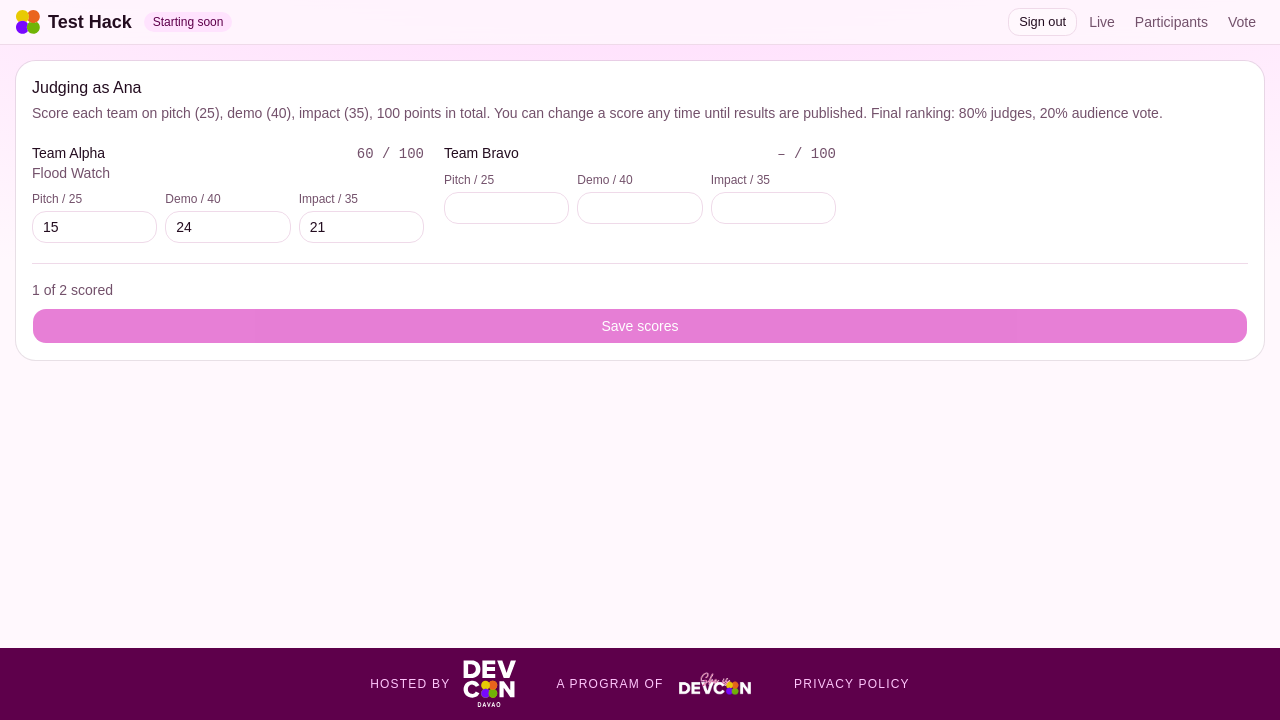
Test: judge page saves pitch, demo, and impact points for each team, with voting not open
Expected: the number field named "Team Alpha demo out of 40" holds "24", x1=165 y1=211 x2=291 y2=243
Expected: the text "60 / 100" is shown, x1=357 y1=144 x2=424 y2=164
Note: A team needs all three criteria, each within its own maximum.
Type "26" into the number field named "Team Bravo pitch out of 25" at (507, 208), box x1=444 y1=192 x2=569 y2=224
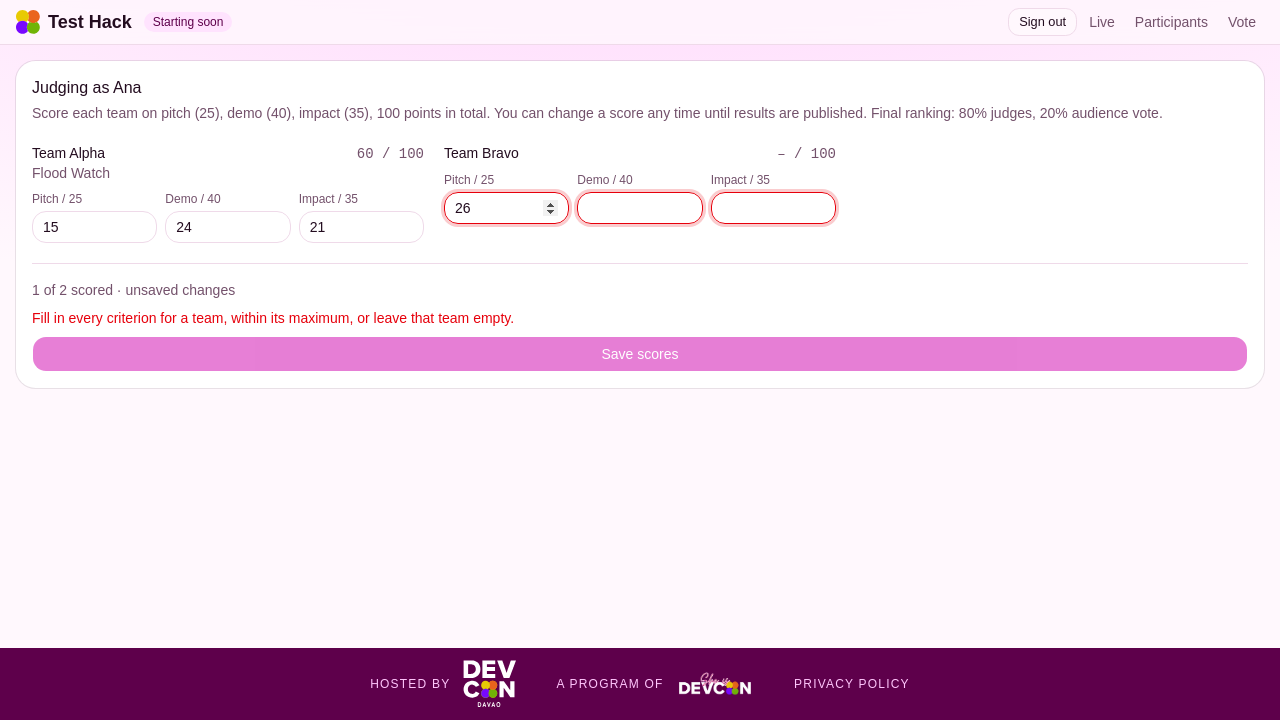
Type "38.5" into the number field named "Team Bravo demo out of 40" at (640, 208), box x1=577 y1=192 x2=703 y2=224
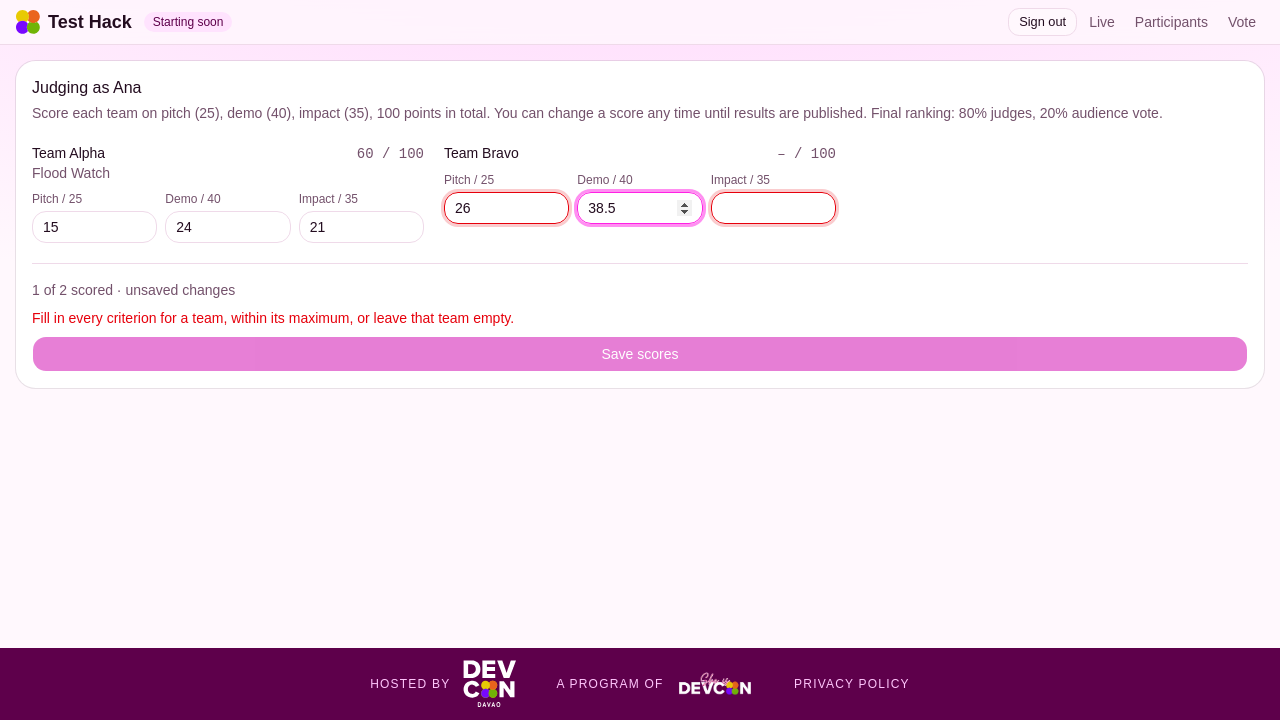
Expected: the button "Save scores" is disabled, x1=32 y1=336 x2=1248 y2=372
Type "30" into the number field named "Team Bravo impact out of 35" at (773, 208), box x1=711 y1=192 x2=836 y2=224
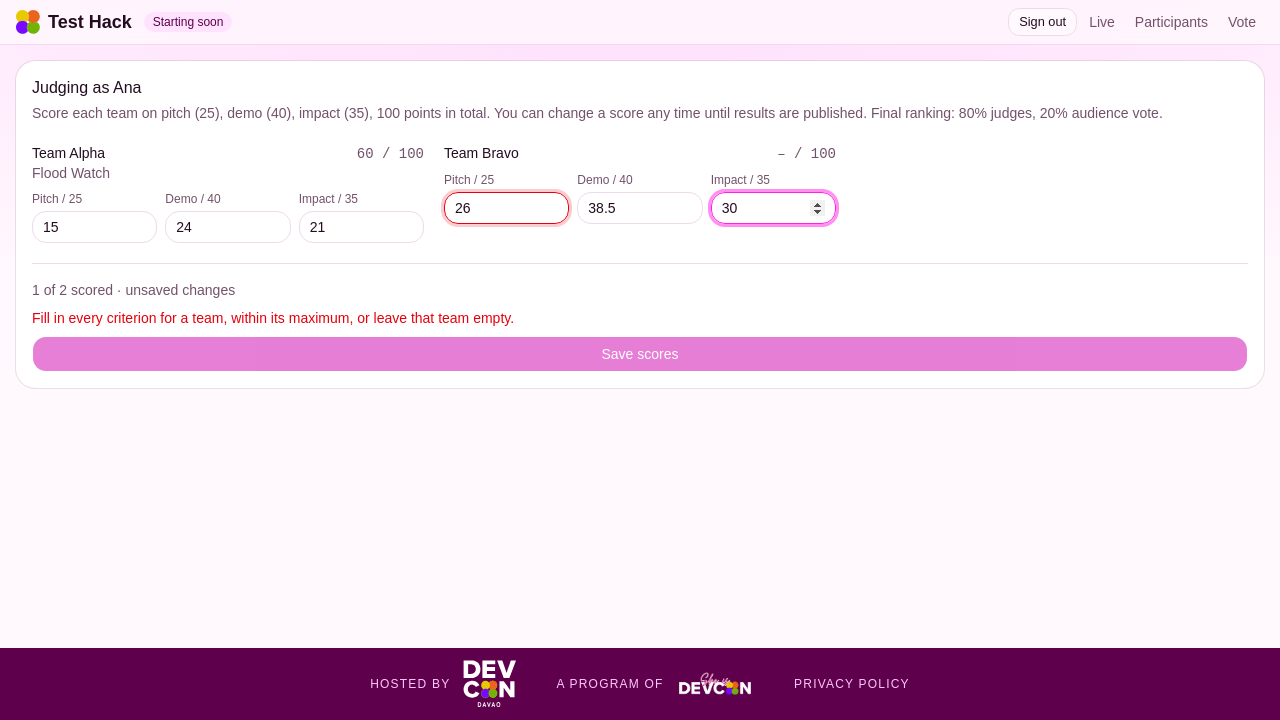
Expected: the button "Save scores" is disabled, x1=32 y1=336 x2=1248 y2=372
Replace the text in the number field named "Team Bravo pitch out of 25" with "20" at (507, 208), box x1=444 y1=192 x2=569 y2=224
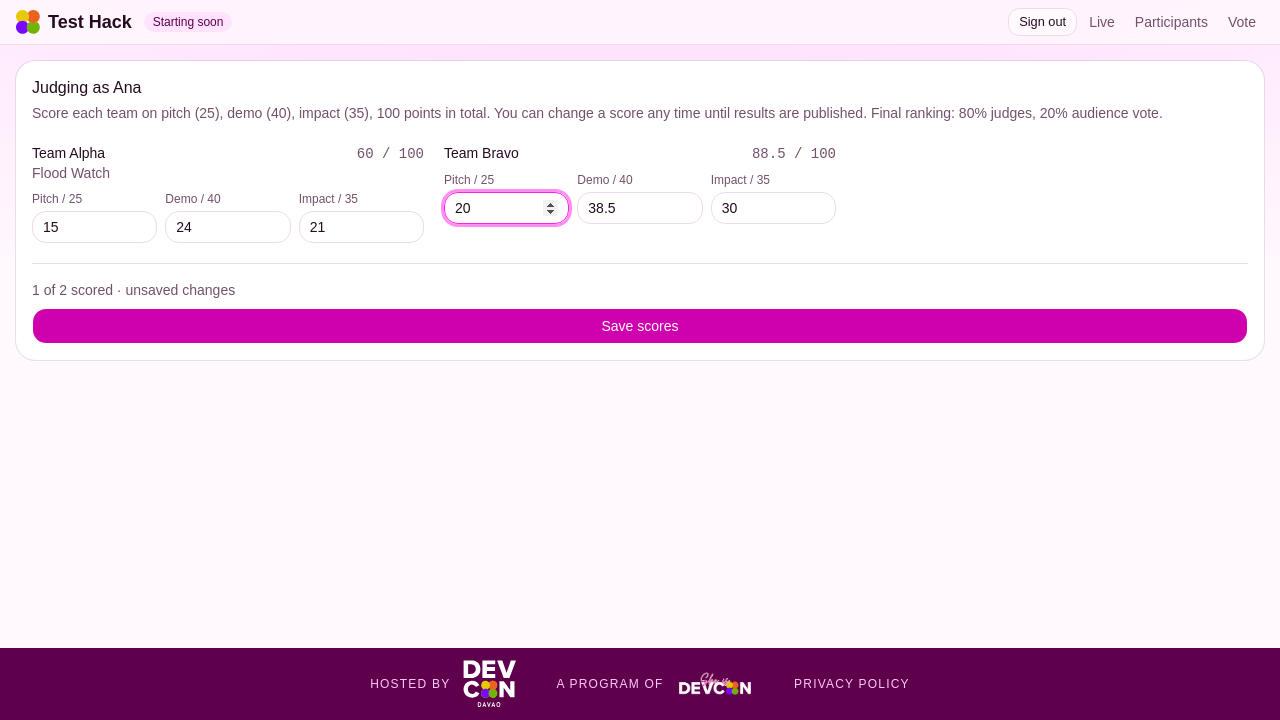
Expected: the text "88.5 / 100" is shown, x1=752 y1=144 x2=836 y2=164
Click the button "Save scores" at (640, 326), box x1=32 y1=308 x2=1248 y2=344
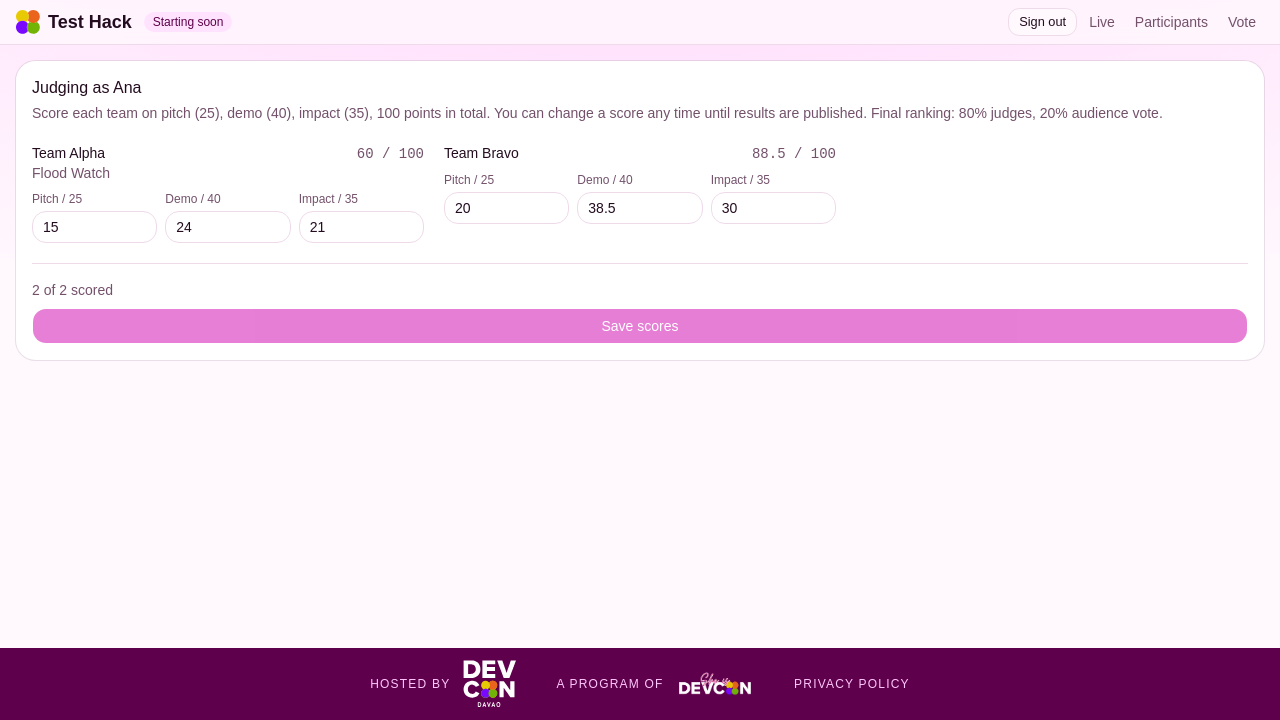
Expected: the text "2 of 2 scored" is shown, x1=32 y1=282 x2=113 y2=298
